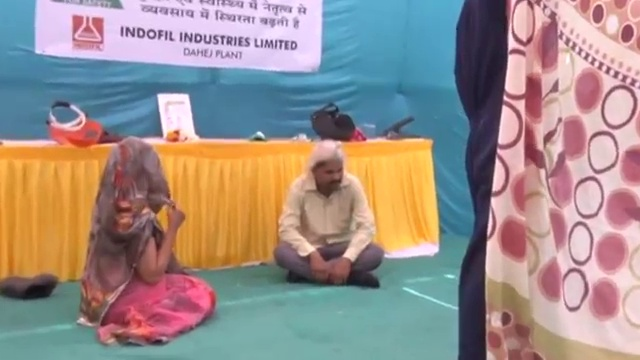helmet_off: (107, 142, 165, 195), (310, 143, 346, 193)
person: (77, 138, 217, 347), (453, 1, 511, 359), (274, 142, 384, 289)
